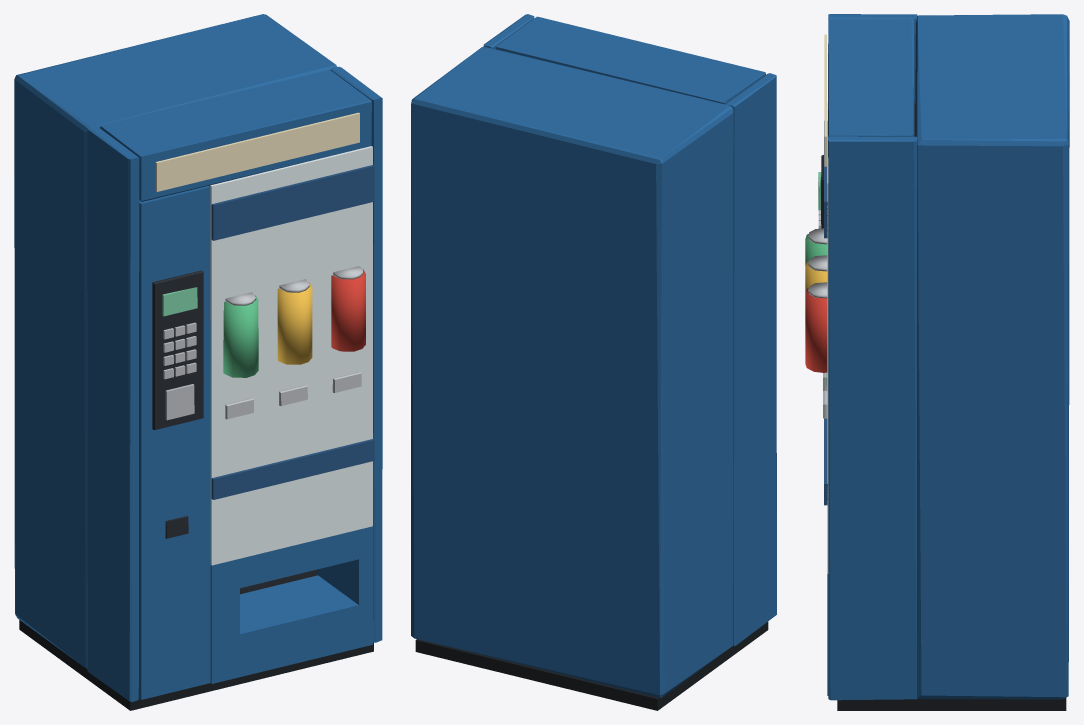
The model's file is vendingDrink.far.glb.
The picture shows the model from 3 angles, left to right: view 1: azimuth 30°, elevation 25°; view 2: azimuth 150°, elevation 25°; view 3: azimuth 270°, elevation 25°; orthographic projection. The views are drawn at different scales.
Parts seen in each view (by area): view 1: vendingDrink_far; view 2: vendingDrink_far; view 3: vendingDrink_far.
Part boxes in pixels (left/top/right/bottom): vendingDrink_far: left=14, top=14, right=382, bottom=710; vendingDrink_far: left=411, top=14, right=776, bottom=710; vendingDrink_far: left=805, top=14, right=1069, bottom=710.
Size of the model in its own units: 0.9 by 1.88 by 0.7852.
